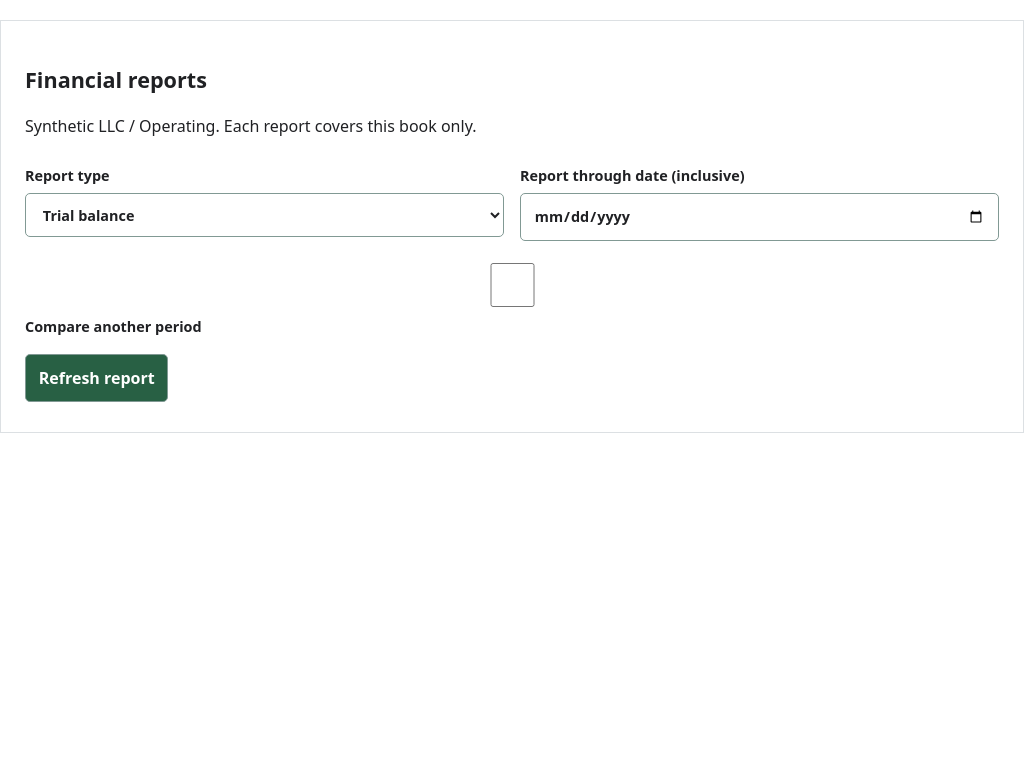
Test case: financial report review › replaces page rows while retaining complete totals and the same revision
This screenshot has width=1024, height=768.
Type "2026-01-31" into the date field labelled "Report through date (inclusive)" at [760, 217], box [520,193,999,240]
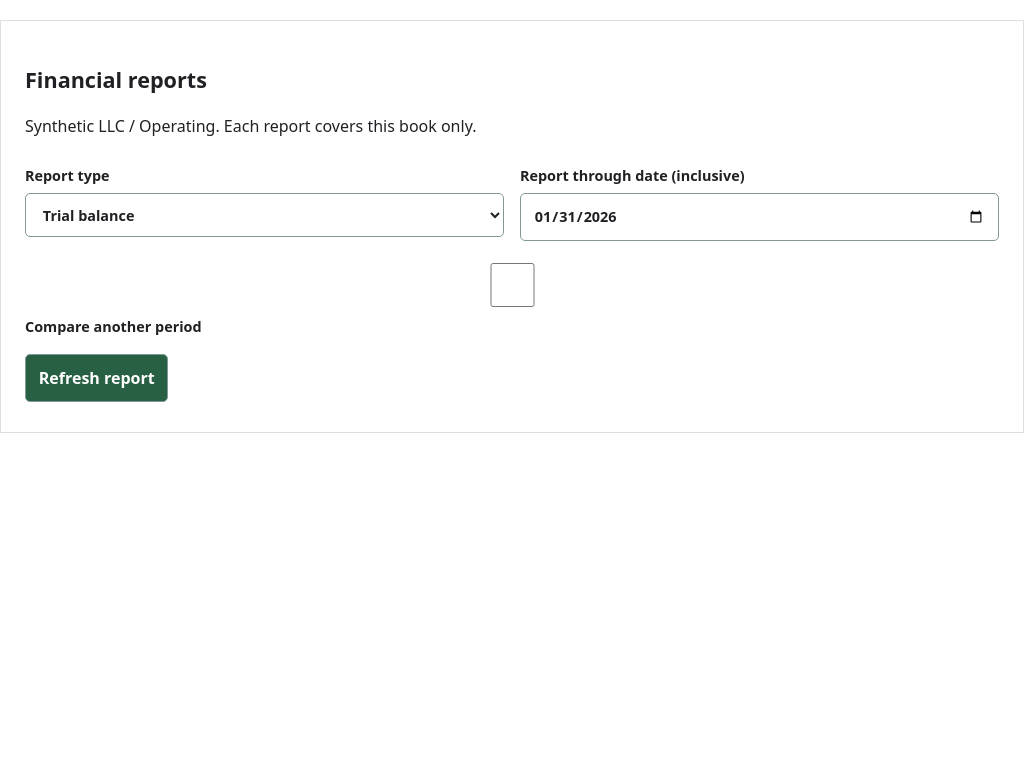
Click the button "Refresh report" at [97, 378], box [25,354,168,402]
(page scrolled)
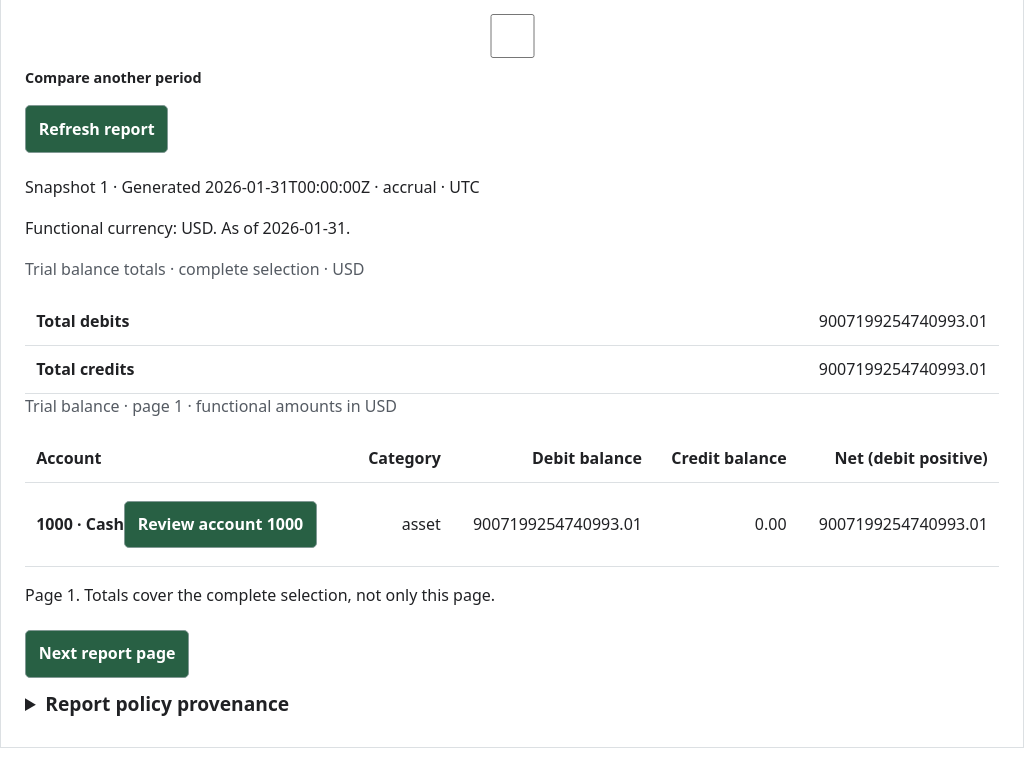
Expected: the text "1000 · Cash" is shown, [36,513,124,535]
Click the button "Next report page" at [107, 654], box [25,630,189,678]
(page scrolled)
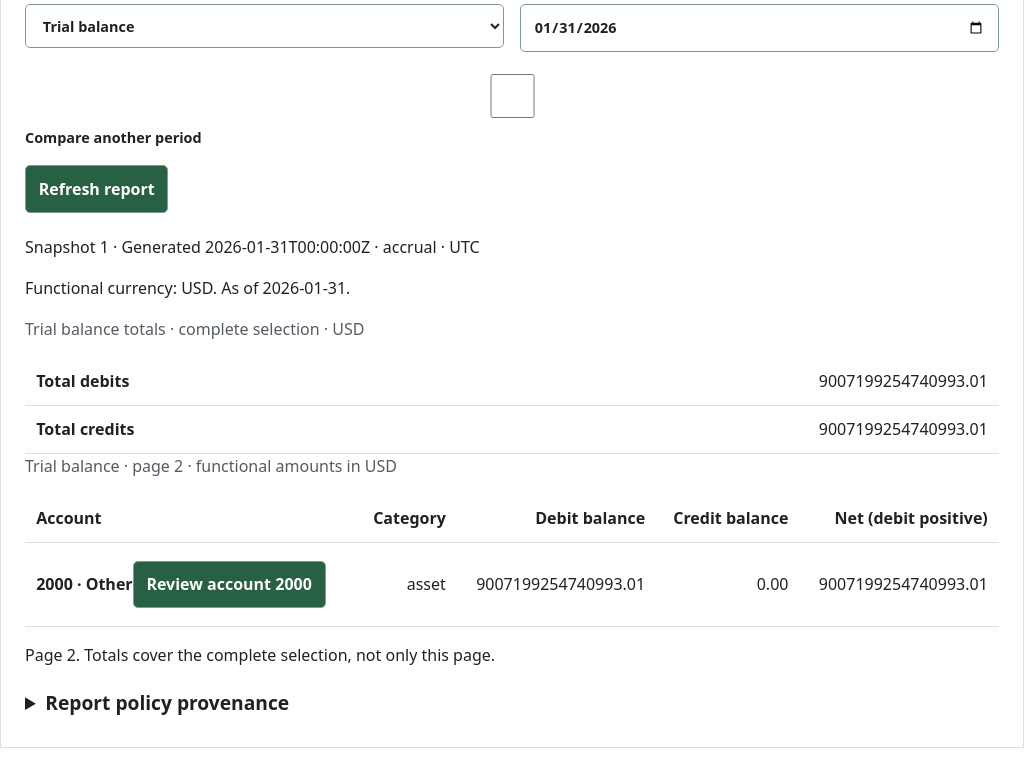
Expected: the text "2000 · Other" is shown, [36,573,133,595]
Expected: the text "1000 · Cash" is gone
Expected: the text "Page 2." is shown, [25,644,495,666]
